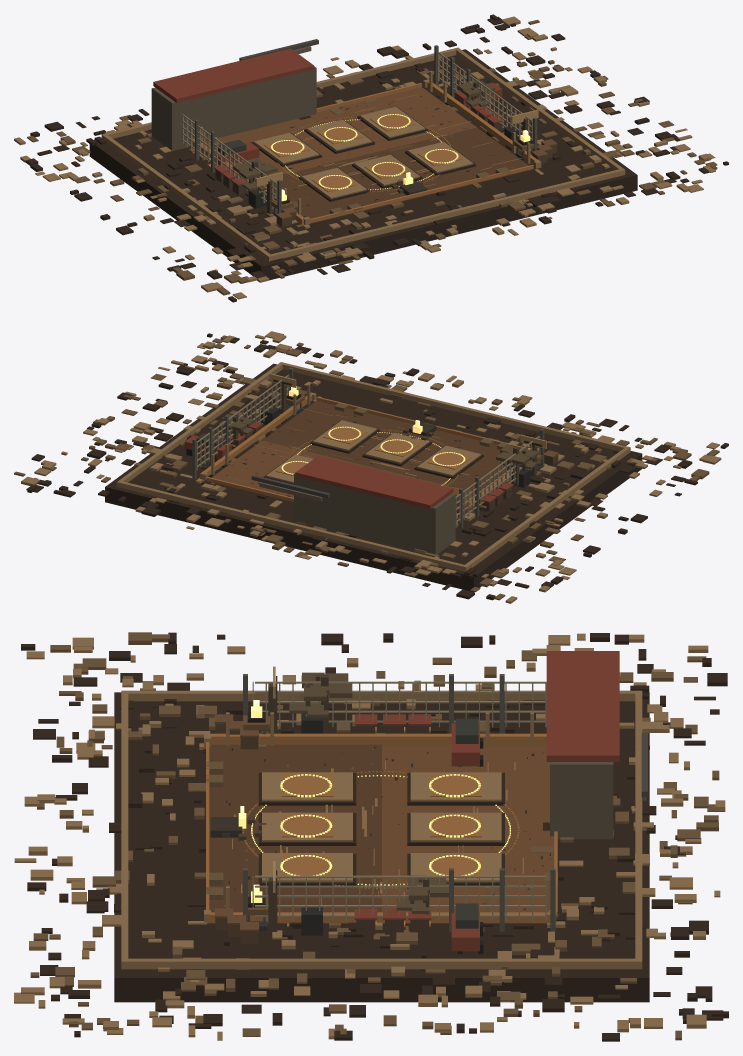
File: preview-wasteland.glb
3 views of the same model, one above another, from view 1: azimuth 30°, elevation 25°; view 2: azimuth 150°, elevation 25°; view 3: azimuth 270°, elevation 25° (orthographic). The views are drawn at different scales.
Visible parts, largest first — view 1: Miniature_Plinth, Miniature_Outer_Rubble, Miniature_Ruined_Station, Miniature_Six_Grounded_Foundations (×2), Miniature_Frame, Miniature_Friendly_Floor, Miniature_Enemy_Floor, Miniature_Chain_Fence, Miniature_Arena_Curb, Miniature_Dead_Trees, Miniature_Rust_Cars, Miniature_Oil_Drums (+4 smaller); view 2: Miniature_Outer_Rubble, Miniature_Plinth, Miniature_Ruined_Station, Miniature_Frame, Miniature_Friendly_Floor, Miniature_Six_Grounded_Foundations, Miniature_Chain_Fence, Miniature_Enemy_Floor, Miniature_Arena_Curb, Miniature_Dead_Trees, Miniature_Oil_Drums, Miniature_Station_Sign (+4 smaller); view 3: Miniature_Plinth, Miniature_Outer_Rubble, Miniature_Six_Grounded_Foundations (×2), Miniature_Friendly_Floor, Miniature_Enemy_Floor, Miniature_Frame, Miniature_Ruined_Station, Miniature_Chain_Fence, Miniature_Arena_Curb, Miniature_Dead_Trees, Miniature_Rust_Cars, Miniature_Oil_Drums (+7 smaller).
Part boxes in pixels (bbox=[...]): Miniature_Plinth: bbox=[89, 49, 637, 280]; Miniature_Outer_Rubble: bbox=[14, 14, 728, 302]; Miniature_Ruined_Station: bbox=[151, 48, 316, 150]; Miniature_Six_Grounded_Foundations (×2): bbox=[251, 106, 475, 201]; Miniature_Frame: bbox=[101, 47, 625, 261]; Miniature_Friendly_Floor: bbox=[274, 127, 532, 224]; Miniature_Enemy_Floor: bbox=[205, 87, 476, 175]; Miniature_Chain_Fence: bbox=[182, 45, 537, 213]; Miniature_Arena_Curb: bbox=[192, 81, 538, 224]; Miniature_Dead_Trees: bbox=[232, 79, 494, 190]; Miniature_Rust_Cars: bbox=[215, 80, 502, 165]; Miniature_Oil_Drums: bbox=[213, 105, 505, 195]; Miniature_Outer_Rubble: bbox=[14, 331, 728, 603]; Miniature_Plinth: bbox=[105, 363, 642, 591]; Miniature_Ruined_Station: bbox=[294, 455, 455, 554]; Miniature_Frame: bbox=[116, 362, 630, 571]; Miniature_Friendly_Floor: bbox=[262, 400, 512, 492]; Miniature_Six_Grounded_Foundations: bbox=[263, 420, 483, 484]; Miniature_Chain_Fence: bbox=[192, 367, 544, 528]; Miniature_Enemy_Floor: bbox=[211, 440, 474, 502]; Miniature_Arena_Curb: bbox=[200, 394, 538, 518]; Miniature_Dead_Trees: bbox=[218, 414, 538, 486]; Miniature_Oil_Drums: bbox=[228, 421, 513, 511]; Miniature_Station_Sign: bbox=[251, 475, 329, 501]; Miniature_Plinth: bbox=[114, 692, 649, 1002]; Miniature_Outer_Rubble: bbox=[14, 632, 728, 1041]; Miniature_Six_Grounded_Foundations (×2): bbox=[258, 772, 504, 885]; Miniature_Friendly_Floor: bbox=[209, 744, 381, 912]; Miniature_Enemy_Floor: bbox=[382, 744, 554, 912]; Miniature_Frame: bbox=[121, 690, 642, 969]; Miniature_Ruined_Station: bbox=[546, 651, 619, 839]; Miniature_Chain_Fence: bbox=[243, 674, 555, 931]; Miniature_Arena_Curb: bbox=[206, 733, 557, 923]; Miniature_Dead_Trees: bbox=[289, 672, 448, 914]; Miniature_Rust_Cars: bbox=[451, 718, 483, 954]; Miniature_Oil_Drums: bbox=[354, 714, 431, 934].
Bounding box in the file's own units: 13.67 × 1.67 × 10.15.
